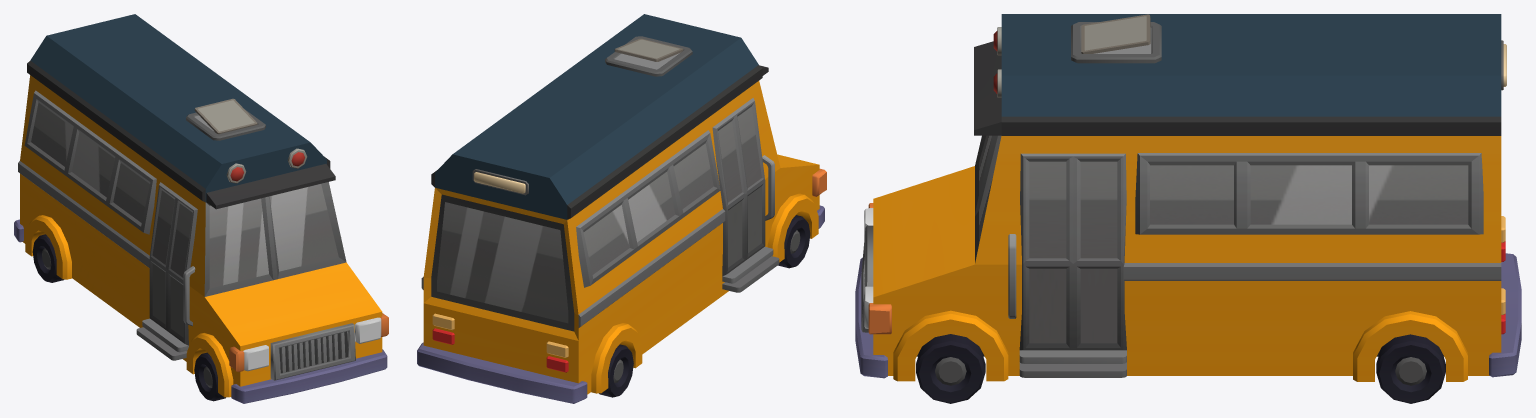
Rendered from Bus_1.glb.
3 views of the same model, side by side, from view 1: azimuth 30°, elevation 25°; view 2: azimuth 150°, elevation 25°; view 3: azimuth 270°, elevation 25° (orthographic). The views are drawn at different scales.
Parts seen in each view (by area): view 1: Bus_1, Whel_BR, Whel_FR; view 2: Bus_1, Whel_FR, Whel_BR; view 3: Bus_1, Whel_FL, Whel_BL.
Boxes of the visible parts, x1,y1,x2,y2 form: Bus_1: (14,14,388,403); Whel_BR: (32,234,64,282); Whel_FR: (194,352,225,401); Bus_1: (417,14,826,403); Whel_FR: (778,215,810,268); Whel_BR: (599,344,633,397); Bus_1: (855,14,1521,381); Whel_FL: (916,334,985,403); Whel_BL: (1376,334,1445,403).
Size of the model in its own units: 1.43 by 1.78 by 3.33.
Materials: 5 (5 with a texture image).
